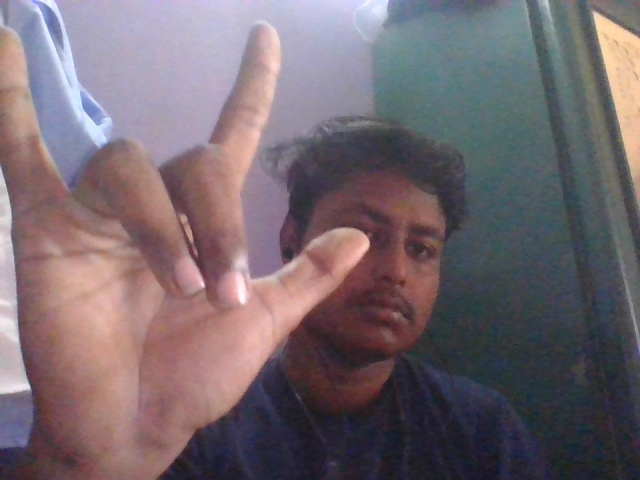iloveyou: (1, 20, 375, 435)
